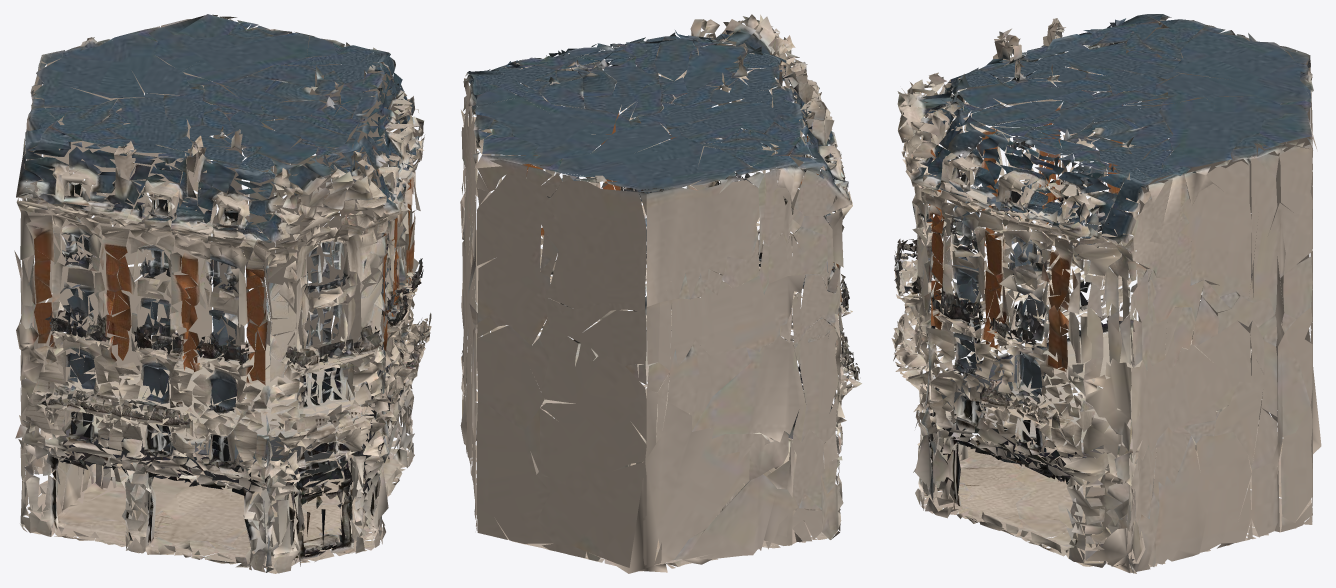
File: riverdale-corner.glb
The picture shows the model from 3 angles, left to right: view 1: azimuth 30°, elevation 25°; view 2: azimuth 150°, elevation 25°; view 3: azimuth 270°, elevation 25°; orthographic projection.
Visible parts, largest first — view 1: Building; view 2: Building; view 3: Building.
Part boxes in pixels (box(x1,y1,x2,y2)): Building: box(14, 14, 431, 573); Building: box(460, 14, 861, 573); Building: box(891, 14, 1321, 573).
Bounding box in the file's own units: 20.19 × 20.31 × 19.02.
Materials: 1 (1 with a texture image).
